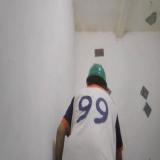Helmet: (85, 62, 108, 90)
